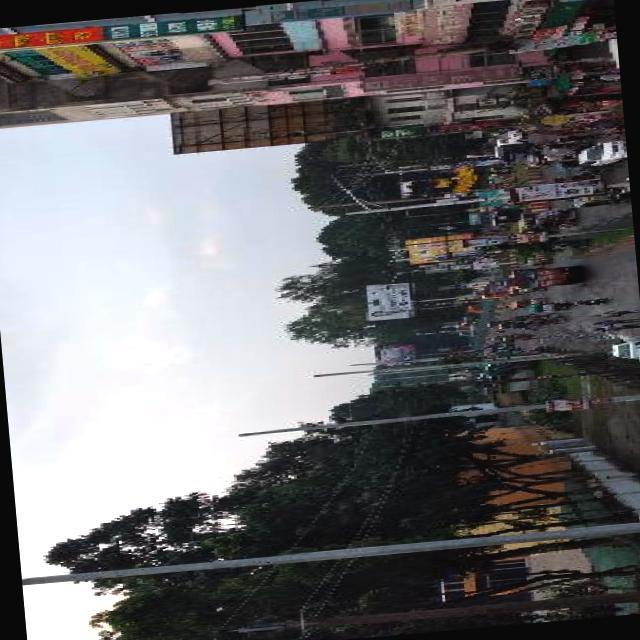bus: (452, 316, 479, 336), (442, 347, 476, 358)
car: (494, 141, 544, 170), (577, 140, 625, 166), (608, 336, 640, 359)
motorcycle: (567, 187, 628, 209), (528, 206, 573, 232), (553, 159, 608, 176), (540, 142, 584, 158), (552, 172, 600, 182), (525, 301, 563, 312), (531, 138, 560, 150), (566, 298, 600, 308), (520, 312, 552, 322), (532, 316, 561, 326), (521, 258, 548, 267), (569, 120, 593, 130), (483, 224, 508, 232), (506, 314, 529, 322), (519, 298, 542, 306), (502, 334, 526, 341), (506, 321, 526, 329), (487, 320, 504, 327), (494, 341, 512, 346), (498, 322, 510, 328), (490, 335, 502, 340), (488, 331, 502, 334)
truck: (502, 264, 578, 290), (478, 278, 516, 299), (490, 128, 523, 146), (464, 302, 488, 316)
